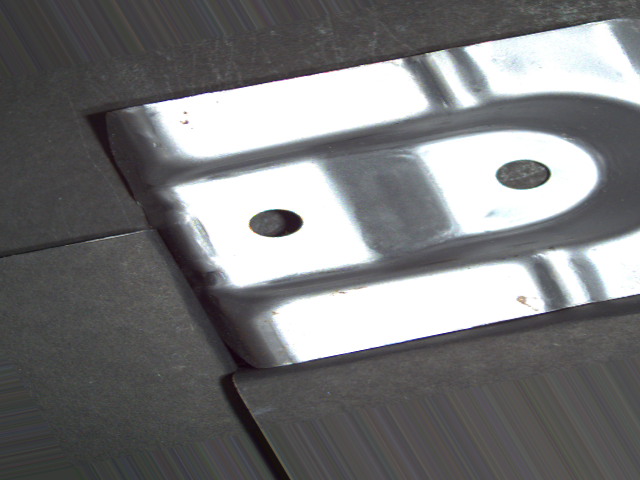defect: (493, 154, 556, 197)
